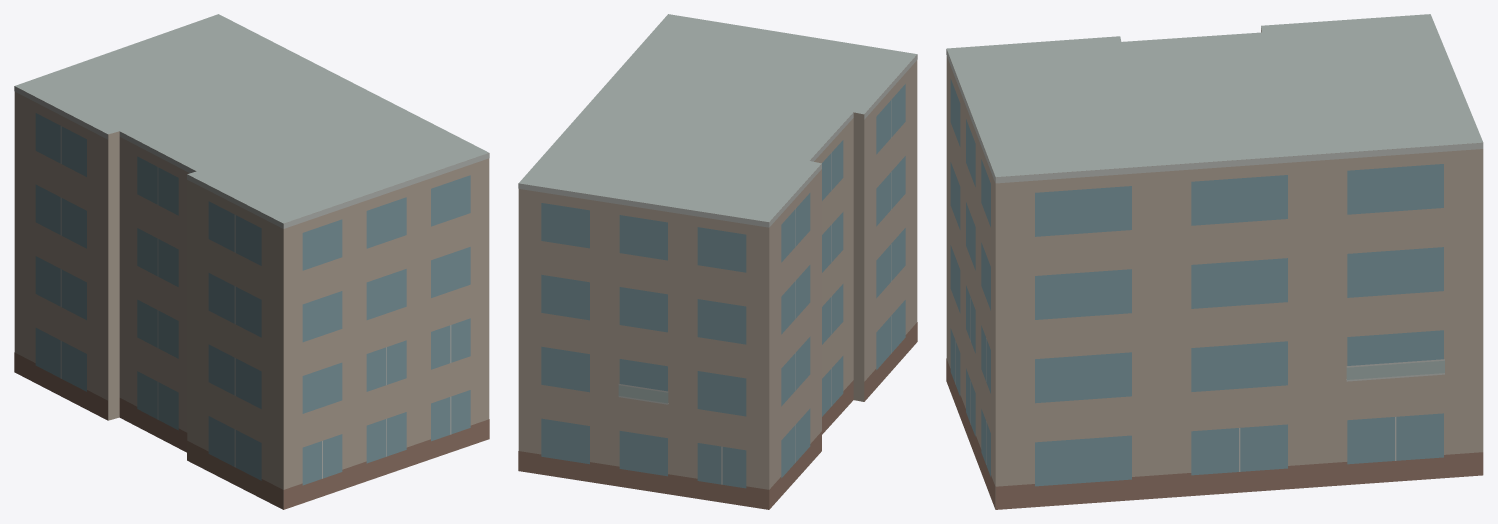
File: survey-upis-32734487.glb
3 views of the same model, side by side, from view 1: azimuth 30°, elevation 25°; view 2: azimuth 150°, elevation 25°; view 3: azimuth 270°, elevation 25° (orthographic). The views are drawn at different scales.
Visible parts, largest first — view 1: survey-upis-32734487.tmp; view 2: survey-upis-32734487.tmp; view 3: survey-upis-32734487.tmp.
Part boxes in pixels (x1,y1,x2,y2): survey-upis-32734487.tmp: (14, 14, 489, 509); survey-upis-32734487.tmp: (518, 14, 917, 509); survey-upis-32734487.tmp: (946, 14, 1483, 509).
Bounding box in the file's own units: 13.58 × 12.9 × 18.88.
